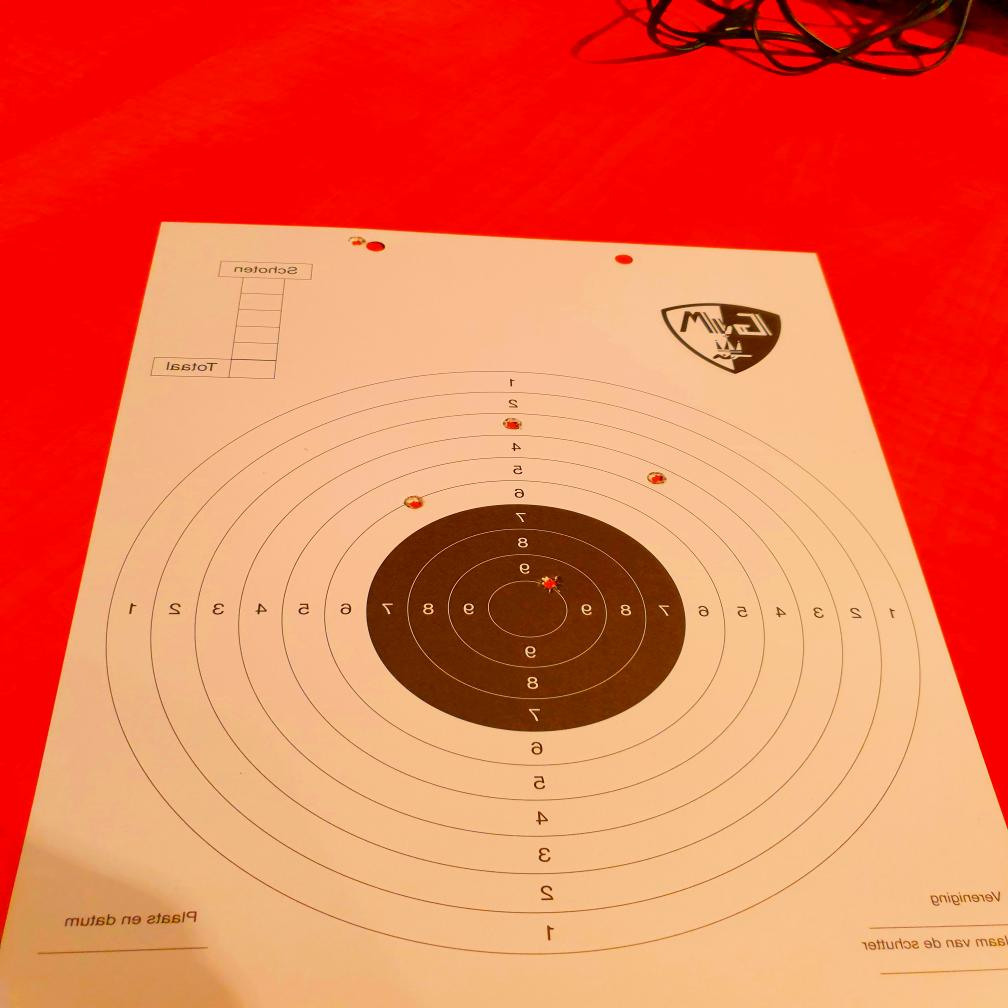0: (346, 234, 367, 247)
10: (537, 574, 564, 594)
3: (501, 416, 523, 431)
4: (645, 470, 668, 485)
6: (403, 492, 426, 511)
Target: (100, 368, 925, 960)
black_contour: (368, 504, 688, 732)
